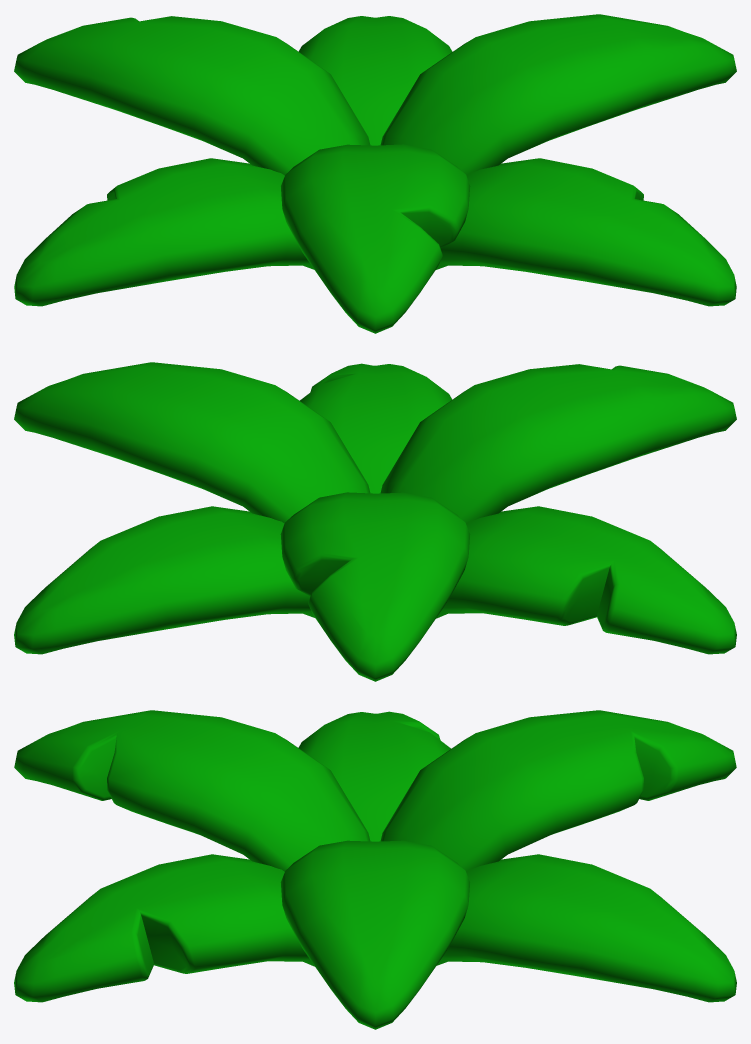
The model's file is Plant.fbx.
3 views of the same model, one above another, from view 1: azimuth 30°, elevation 25°; view 2: azimuth 150°, elevation 25°; view 3: azimuth 270°, elevation 25° (orthographic).
Visible parts, largest first — view 1: Plant; view 2: Plant; view 3: Plant.
Part boxes in pixels (x1,y1,x2,y2): Plant: (14, 14, 736, 333); Plant: (14, 362, 736, 681); Plant: (14, 710, 736, 1029).
Size of the model in its own units: 63.29 by 17.33 by 55.02.
